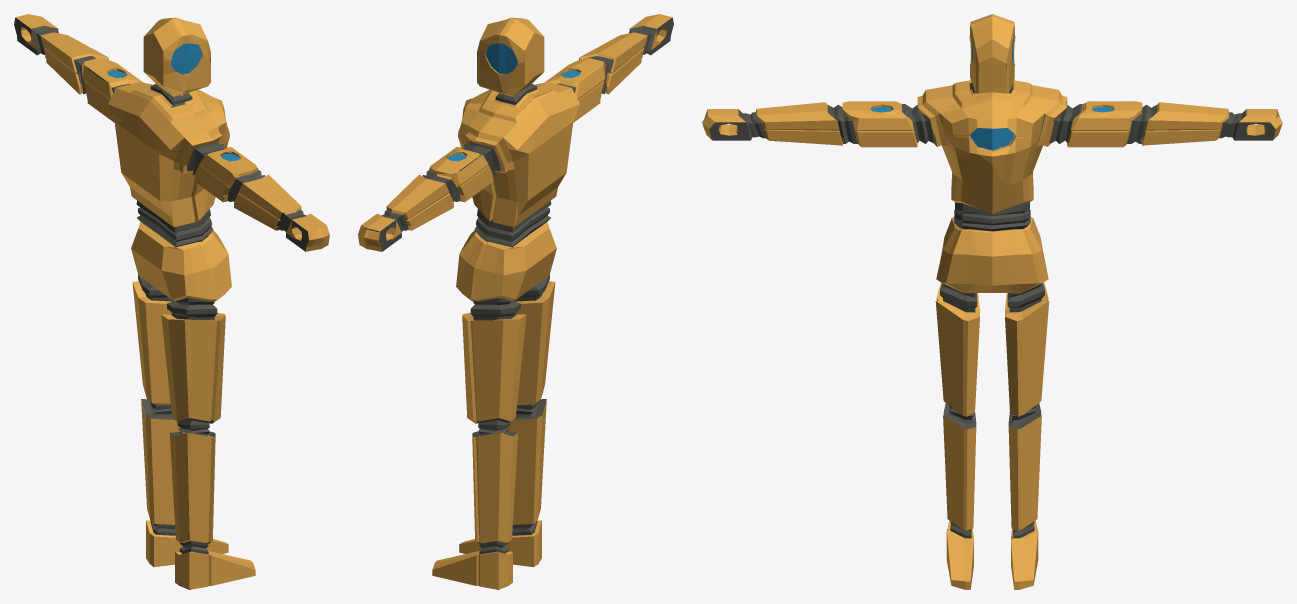
File: Personaje2.fbx
3 views of the same model, side by side, from view 1: azimuth 30°, elevation 25°; view 2: azimuth 150°, elevation 25°; view 3: azimuth 270°, elevation 25° (orthographic). The views are drawn at different scales.
Parts seen in each view (by area): view 1: Cube; view 2: Cube; view 3: Cube.
Part boxes in pixels (box(x1,y1,x2,y2)): Cube: box(14, 14, 329, 589); Cube: box(358, 14, 673, 589); Cube: box(702, 14, 1282, 589).
Bounding box in the file's own units: 80.61 × 419 × 405.
Materials: 1 (1 with a texture image).
